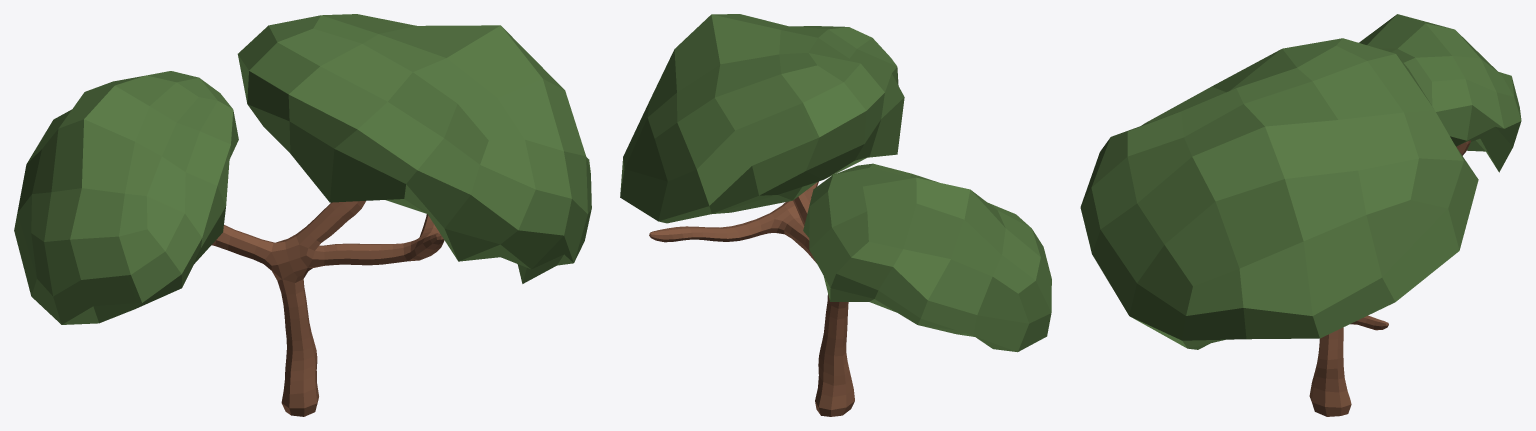
Rendered from tree_test.fbx.
3 renders of one model, left to right at view 1: azimuth 30°, elevation 25°; view 2: azimuth 150°, elevation 25°; view 3: azimuth 270°, elevation 25°, orthographic. The views are drawn at different scales.
Visible parts, largest first — view 1: Cube.004; view 2: Cube.004; view 3: Cube.004.
Part boxes in pixels (left/top/right/bottom): Cube.004: left=14, top=14, right=591, bottom=416; Cube.004: left=620, top=14, right=1051, bottom=416; Cube.004: left=1080, top=14, right=1521, bottom=416.
Bounding box in the file's own units: 124 × 117 × 157.
